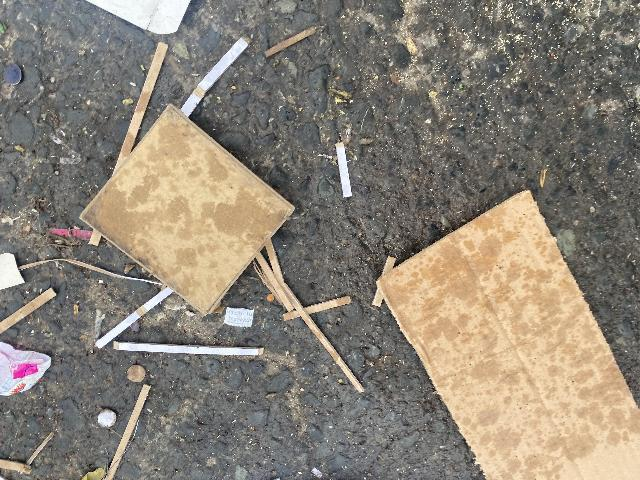Kagit: (389, 178, 640, 480), (68, 100, 302, 319), (90, 25, 197, 176), (0, 206, 67, 422), (83, 378, 181, 480), (171, 16, 251, 124), (257, 17, 346, 75), (78, 346, 308, 359), (337, 121, 362, 216)
